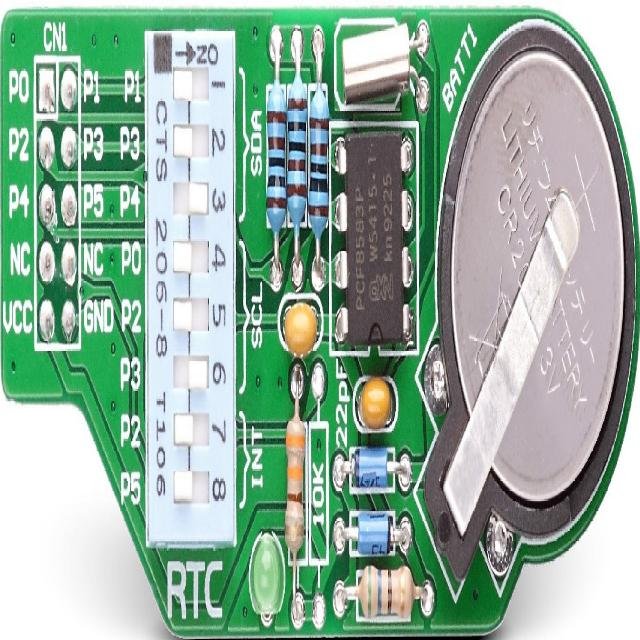2235: (144, 11, 238, 542)
LED: (250, 530, 283, 618)
battery: (428, 10, 633, 587)
capacitor 1V5: (354, 375, 396, 425), (284, 297, 316, 359)
clock Q1: (336, 8, 429, 114)
diode -D1-: (343, 511, 397, 552), (341, 452, 400, 480)
resistor IR1: (263, 34, 286, 248), (352, 560, 423, 626), (287, 36, 308, 234), (310, 35, 328, 248), (286, 386, 306, 558)
